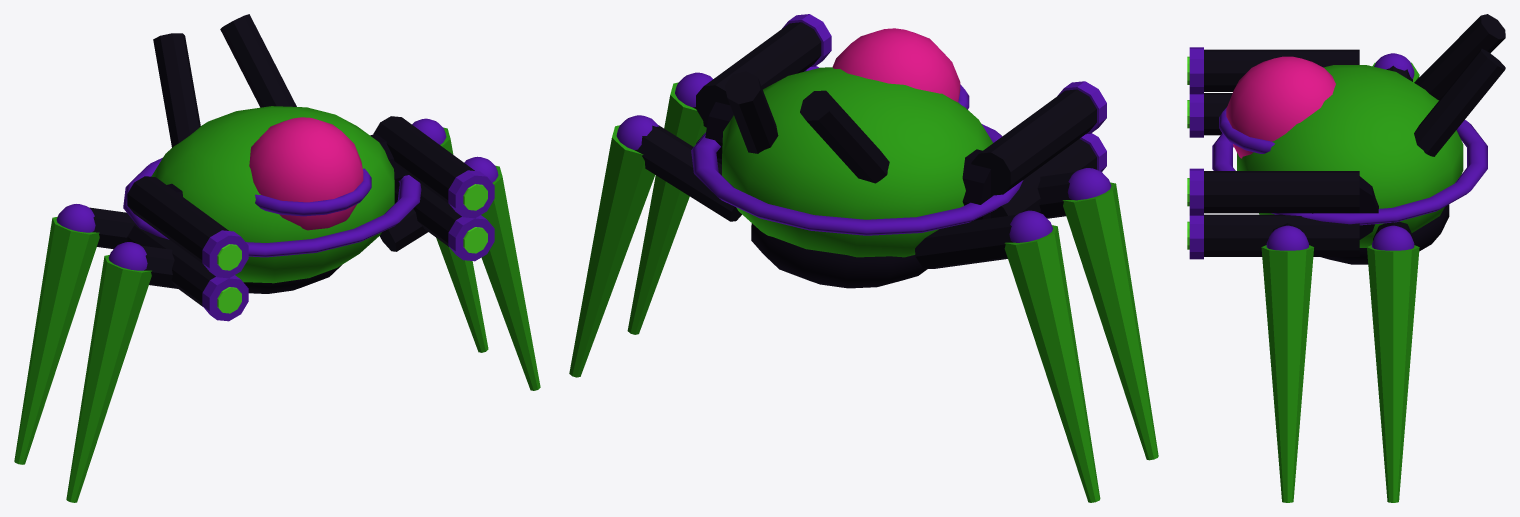
The model's file is Enemy_gang.fbx.
3 views of the same model, side by side, from view 1: azimuth 30°, elevation 25°; view 2: azimuth 150°, elevation 25°; view 3: azimuth 270°, elevation 25° (orthographic). The views are drawn at different scales.
Parts seen in each view (by area): view 1: Enemy_gang; view 2: Enemy_gang; view 3: Enemy_gang.
Boxes of the visible parts, x1,y1,x2,y2 form: Enemy_gang: (14, 14, 540, 502); Enemy_gang: (569, 14, 1158, 502); Enemy_gang: (1187, 14, 1505, 502).
Bounding box in the file's own units: 1.15 × 0.819 × 0.6649.
